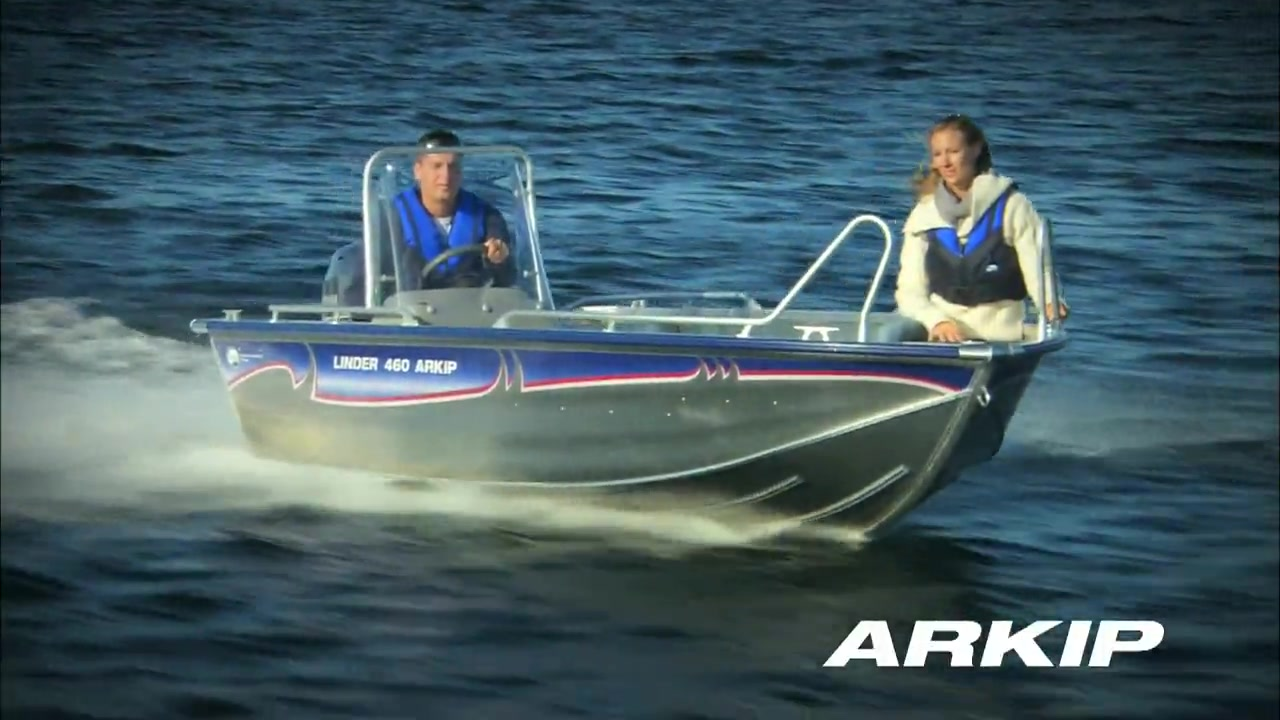boat: (187, 148, 1074, 549)
